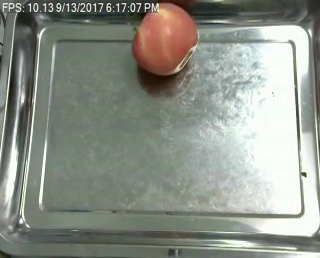Apple: (132, 0, 199, 77)
